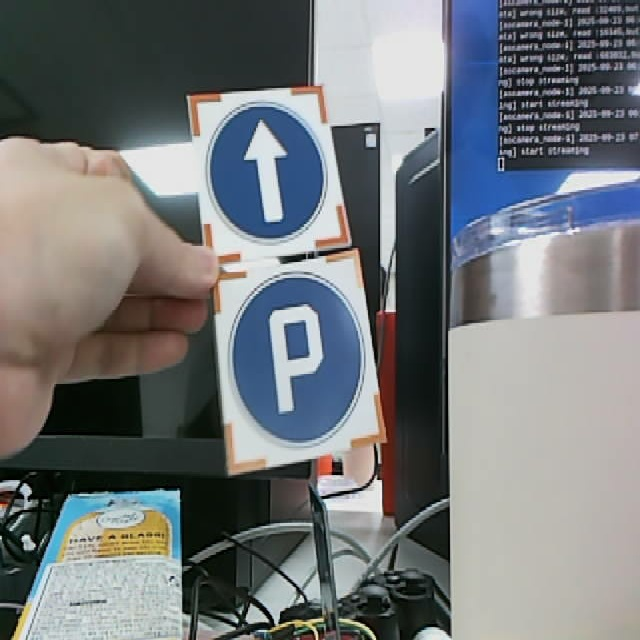parking: (197, 249, 388, 474)
strait: (180, 86, 359, 262)
